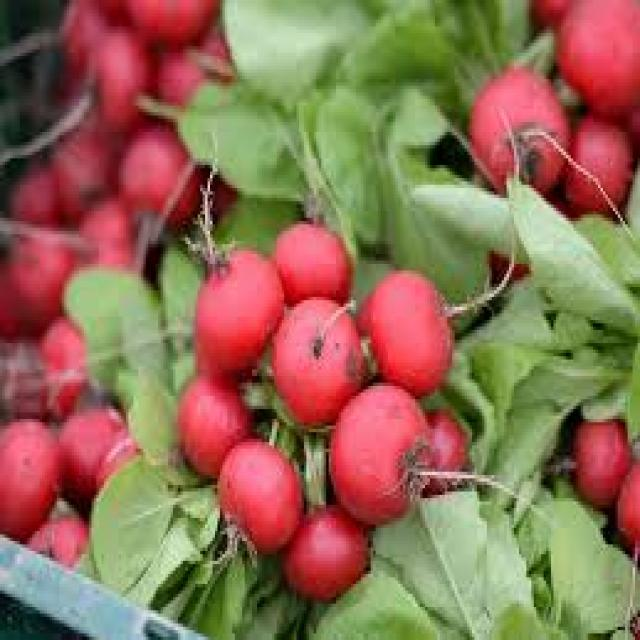biodegradable: (0, 0, 638, 637), (217, 0, 534, 254), (84, 320, 309, 637), (381, 152, 638, 429), (467, 370, 638, 637), (450, 268, 638, 502), (373, 475, 566, 637), (139, 69, 327, 218), (59, 241, 200, 363), (302, 558, 475, 637), (331, 373, 425, 515), (469, 66, 566, 198), (349, 264, 448, 392), (200, 228, 284, 373), (269, 300, 366, 422), (208, 429, 302, 551), (274, 498, 371, 597), (554, 0, 638, 109), (559, 106, 638, 221), (173, 366, 250, 475), (50, 119, 124, 231), (0, 415, 59, 544), (119, 122, 198, 218), (57, 0, 136, 96), (0, 231, 72, 336), (52, 396, 121, 498), (267, 215, 346, 301), (89, 27, 151, 136), (148, 36, 230, 112), (564, 409, 626, 505), (70, 185, 139, 267), (114, 0, 222, 46), (208, 192, 294, 248), (40, 314, 84, 423), (22, 508, 94, 571), (423, 403, 475, 489), (74, 192, 141, 258), (0, 330, 44, 416), (10, 155, 57, 224), (94, 435, 146, 485), (611, 459, 638, 541), (531, 0, 576, 23)
